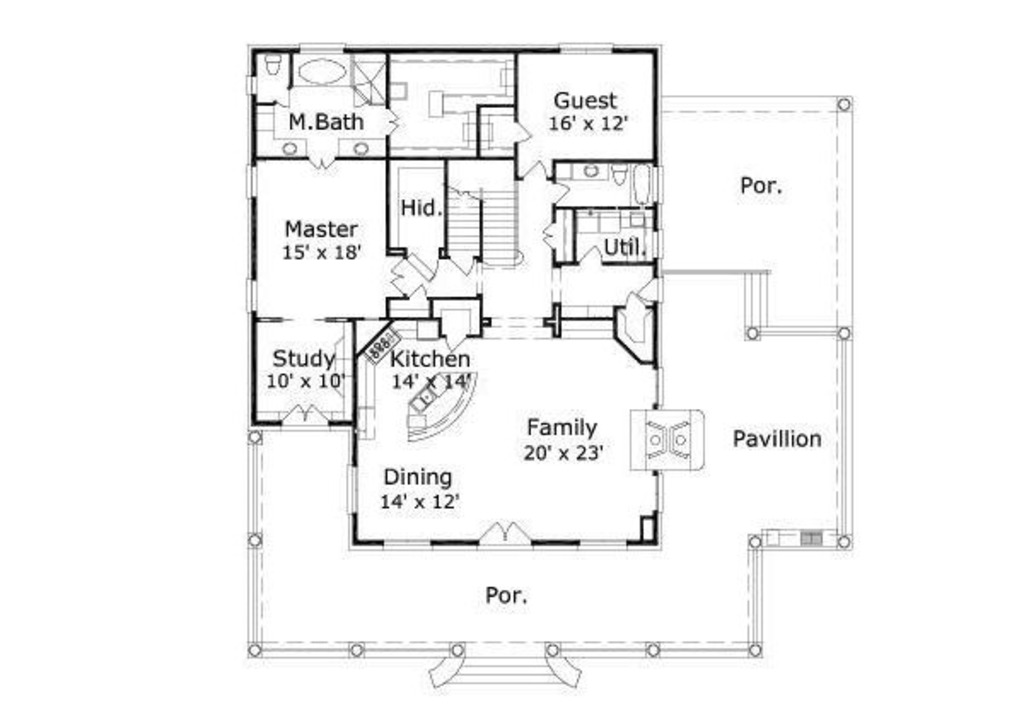door: (473, 518, 530, 548), (404, 250, 449, 282), (276, 404, 333, 429), (303, 150, 341, 175), (390, 253, 411, 297), (639, 275, 669, 304), (442, 326, 474, 352), (380, 103, 406, 134), (519, 156, 550, 182), (511, 120, 537, 144), (575, 246, 606, 266), (450, 253, 476, 276), (622, 290, 649, 310), (274, 86, 295, 109), (549, 182, 573, 202), (540, 222, 557, 248), (404, 287, 433, 302)
kitchen_bar: (407, 362, 482, 445)
large_sink: (253, 48, 290, 83), (611, 159, 637, 190)
small_sink: (570, 160, 616, 181), (338, 140, 392, 157), (276, 136, 302, 157)
stairs: (445, 160, 521, 266)
tub: (294, 52, 354, 89), (628, 158, 655, 207)
window: (378, 530, 435, 554), (565, 533, 633, 553), (241, 274, 271, 315), (343, 464, 365, 513), (238, 164, 266, 199), (560, 41, 616, 55)
